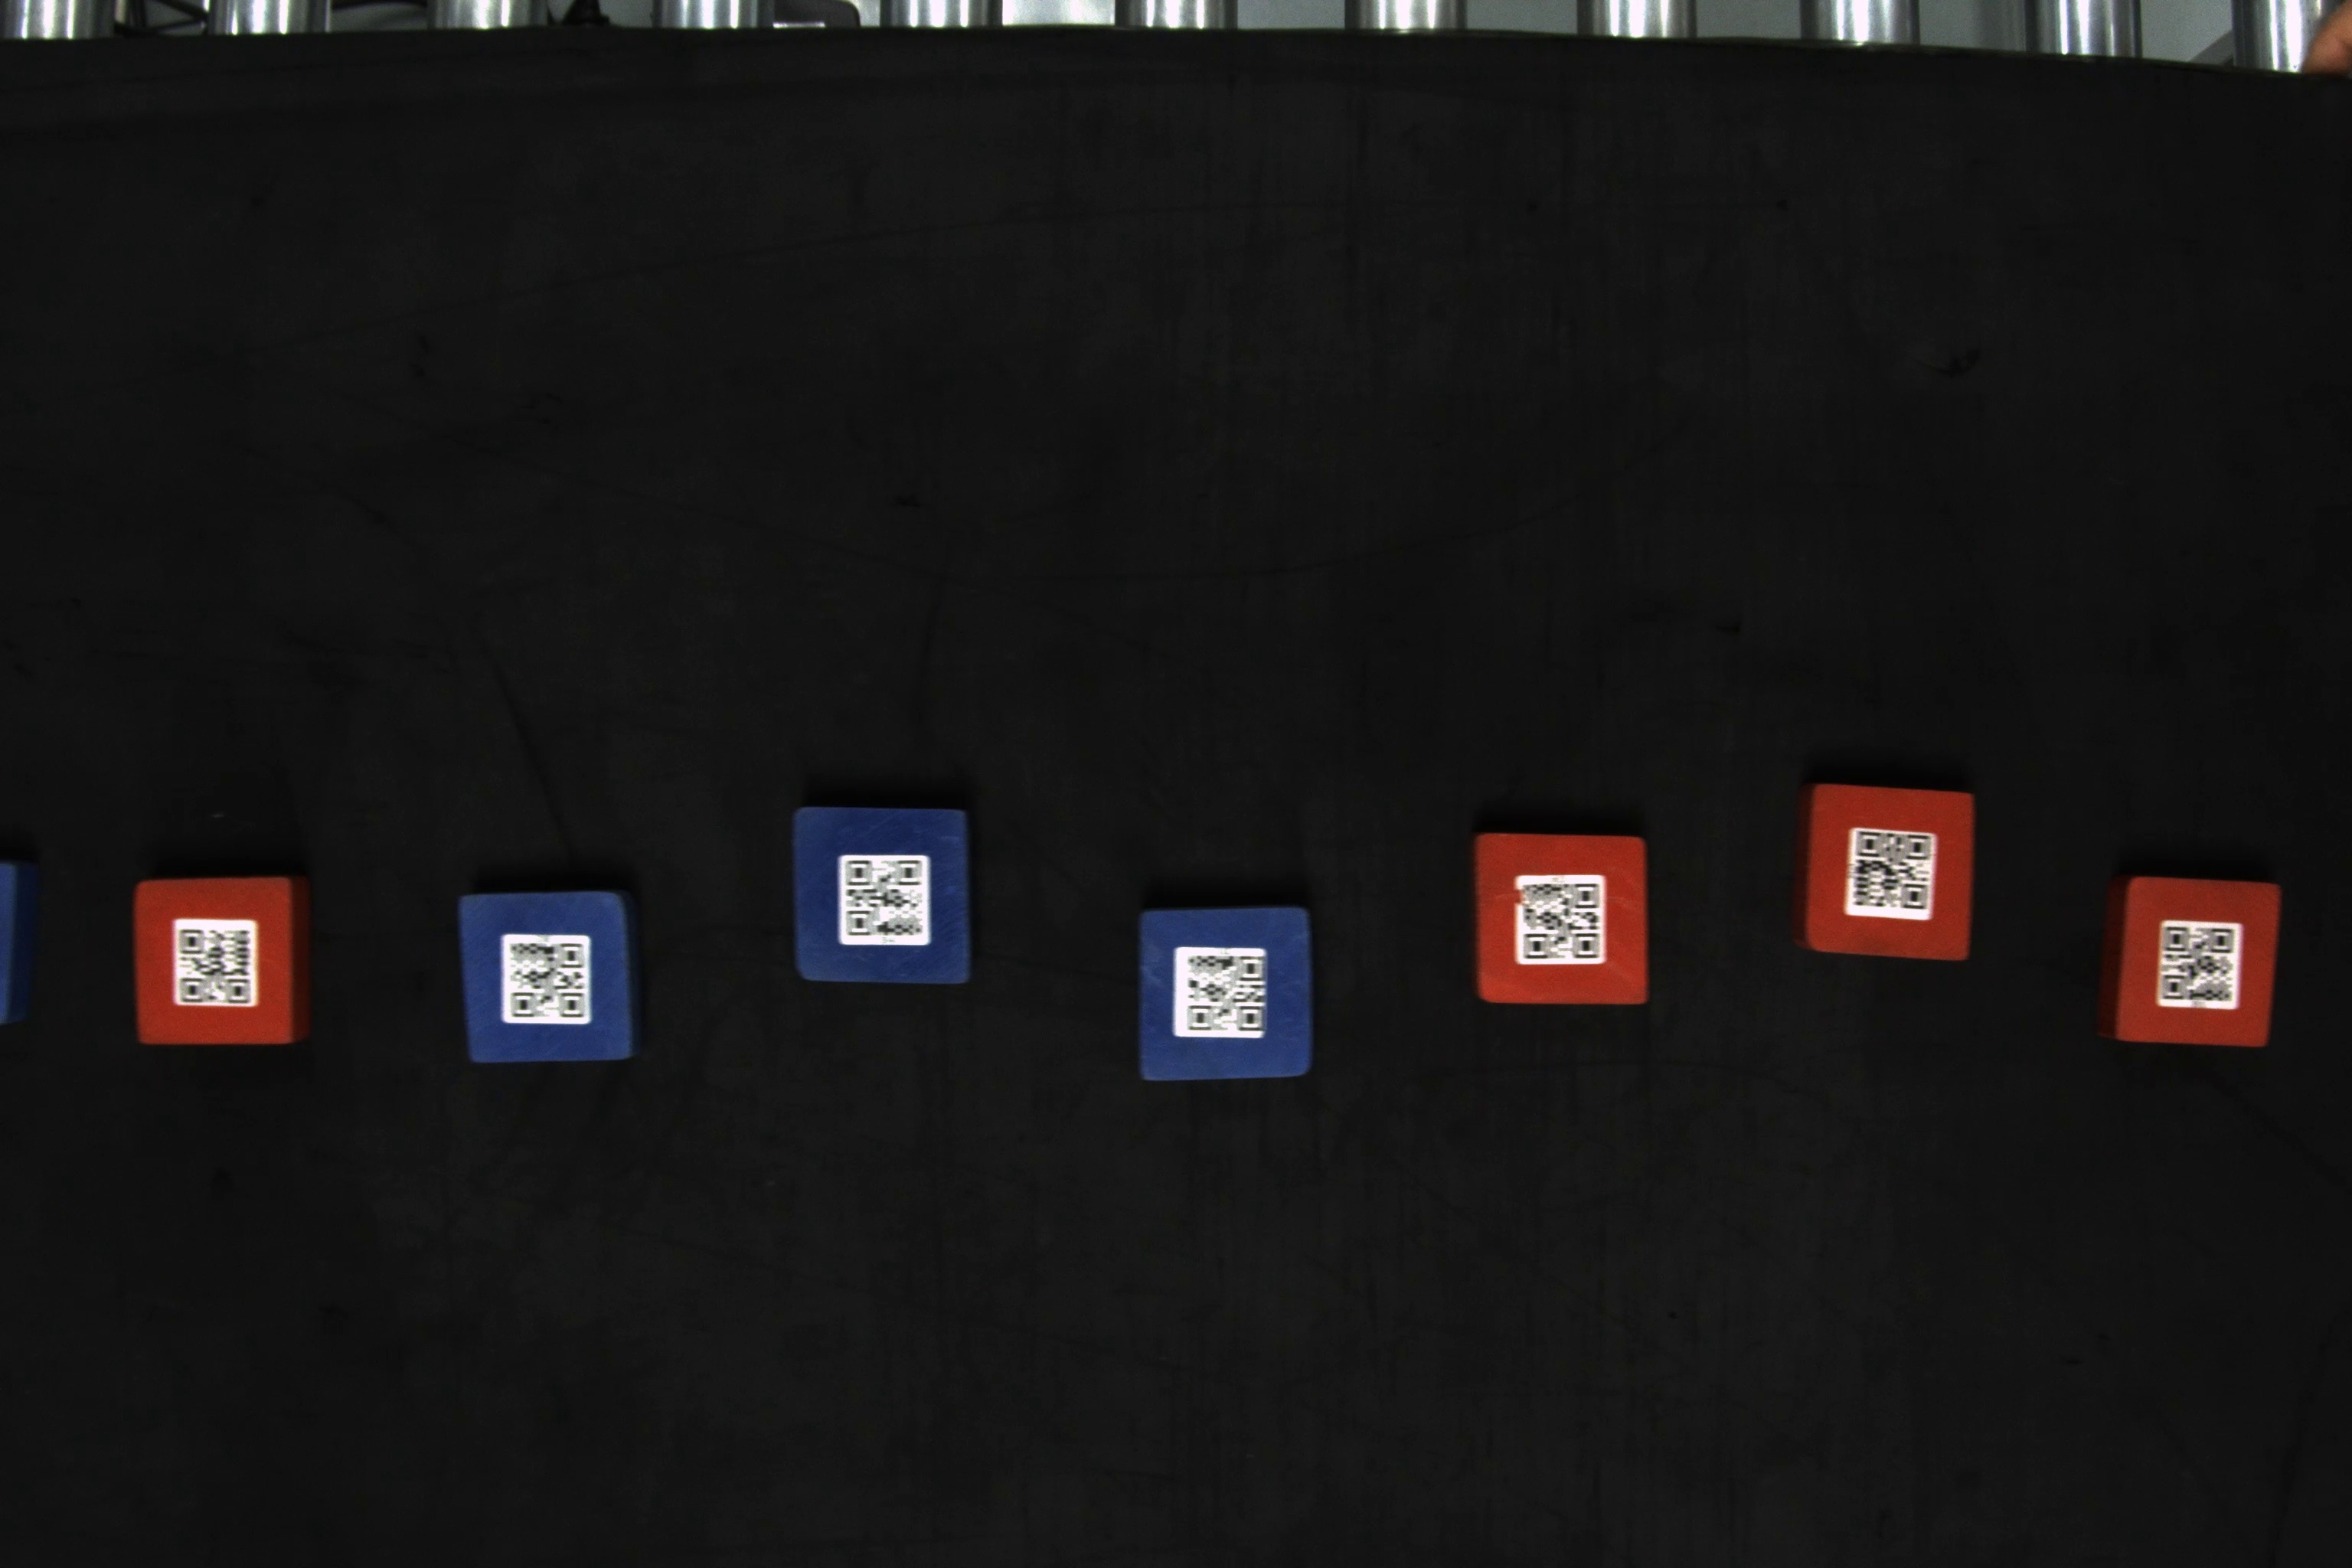wood: (1787, 765, 1986, 973), (448, 880, 653, 1066), (2091, 870, 2285, 1059), (787, 801, 978, 989), (129, 877, 324, 1053), (1134, 898, 1323, 1078), (1477, 829, 1657, 1018)
